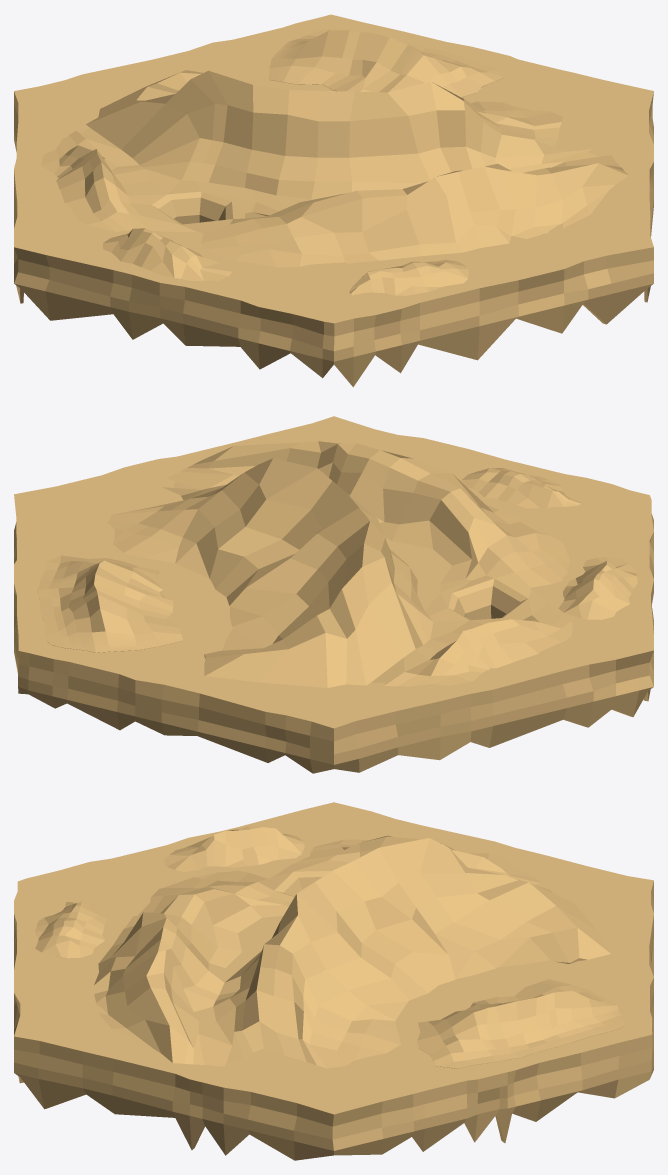
File: G_DesertHex.fbx
The picture shows the model from 3 angles, top to bottom: view 1: azimuth 30°, elevation 25°; view 2: azimuth 150°, elevation 25°; view 3: azimuth 270°, elevation 25°; orthographic projection.
Parts seen in each view (by area): view 1: G_Main_Sand_Dune, G_SandHexagon, G_HexagonDrip, G_Small_Sand_Dune, G_Short_Sand_Dune_2, G_Short_Sand_Dune_1, G_Sand_Hole; view 2: G_Main_Sand_Dune, G_SandHexagon, G_HexagonDrip, G_Small_Sand_Dune, G_Short_Sand_Dune_2, G_Short_Sand_Dune_1, G_Sand_Hole; view 3: G_Main_Sand_Dune, G_SandHexagon, G_HexagonDrip, G_Small_Sand_Dune, G_Short_Sand_Dune_2, G_Short_Sand_Dune_1, G_Sand_Hole.
Part boxes in pixels (<box>): G_Main_Sand_Dune: <box>41,70,628,267</box>; G_SandHexagon: <box>24,18,643,319</box>; G_HexagonDrip: <box>14,14,653,387</box>; G_Small_Sand_Dune: <box>269,29,503,97</box>; G_Short_Sand_Dune_2: <box>102,228,232,280</box>; G_Short_Sand_Dune_1: <box>349,259,468,295</box>; G_Sand_Hole: <box>152,191,233,224</box>; G_Main_Sand_Dune: <box>107,441,572,687</box>; G_SandHexagon: <box>24,421,643,723</box>; G_HexagonDrip: <box>14,416,653,773</box>; G_Small_Sand_Dune: <box>37,555,183,652</box>; G_Short_Sand_Dune_2: <box>558,557,637,619</box>; G_Short_Sand_Dune_1: <box>461,468,583,508</box>; G_Sand_Hole: <box>448,578,527,620</box>; G_Main_Sand_Dune: <box>94,835,610,1068</box>; G_SandHexagon: <box>25,807,643,1109</box>; G_HexagonDrip: <box>14,802,653,1160</box>; G_Small_Sand_Dune: <box>417,979,624,1068</box>; G_Short_Sand_Dune_2: <box>163,826,304,871</box>; G_Short_Sand_Dune_1: <box>35,901,106,958</box>; G_Sand_Hole: <box>274,871,331,896</box>.
Bounding box in the file's own units: 3580 × 929 × 3100.
